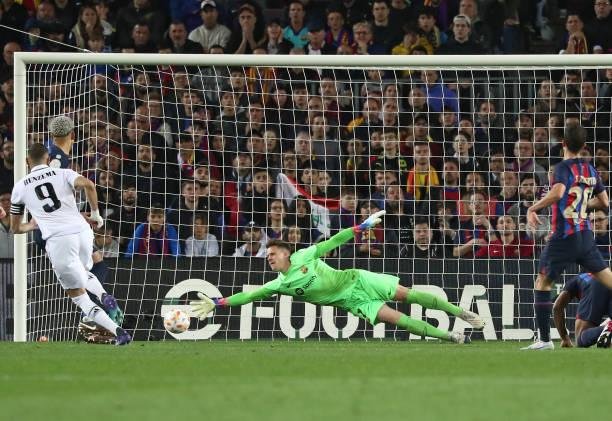Goalkeeper: (189, 210, 483, 342)
Player: (11, 143, 131, 345), (526, 124, 612, 348), (553, 273, 612, 347), (49, 116, 74, 168)
ball: (164, 308, 190, 333)
